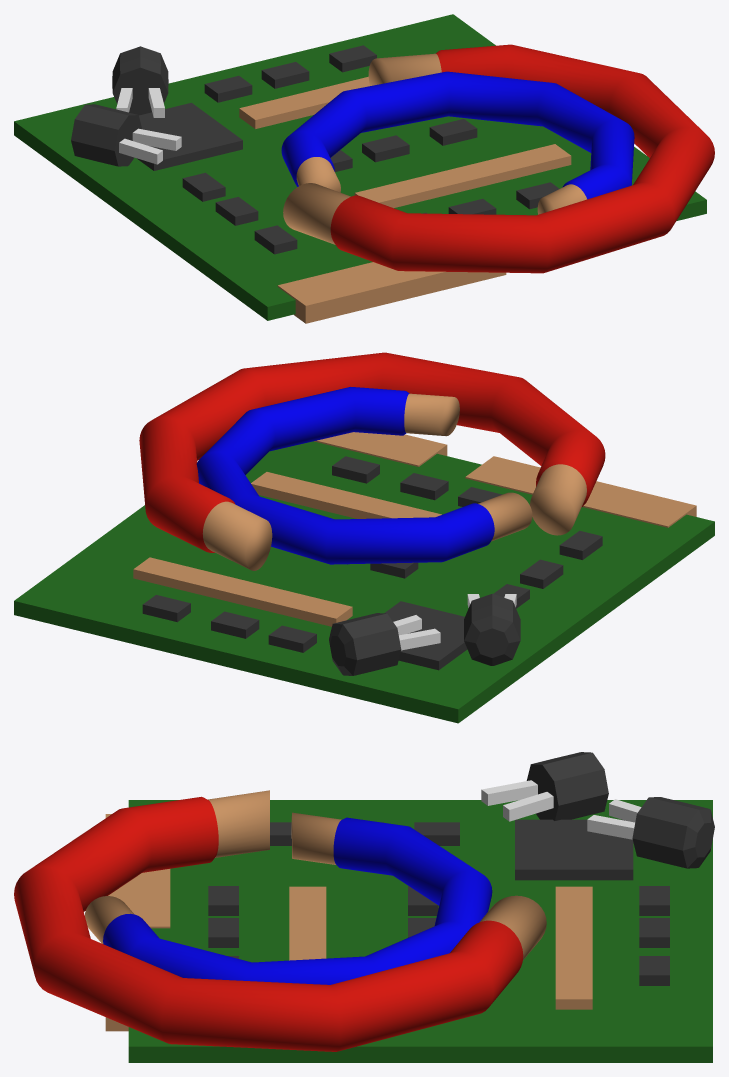
The model's file is Electronics.glb.
3 renders of one model, top to bottom at view 1: azimuth 30°, elevation 25°; view 2: azimuth 150°, elevation 25°; view 3: azimuth 270°, elevation 25°, orthographic. The views are drawn at different scales.
Visible parts, largest first — view 1: Motherboard, Wire, Wire.001, MetalStrip.001, MetalStrip.003, Processor, CapacitorTop.001, CapacitorTop, MetalStrip, Processor.006, Processor.011, Processor.010 (+9 smaller); view 2: Motherboard, Wire, Wire.001, MetalStrip, MetalStrip.001, MetalStrip.003, CapacitorTop, CapacitorTop.001, Processor, MetalStrip.002, Processor.008, Processor.012 (+6 smaller); view 3: Motherboard, Wire, Wire.001, Processor, CapacitorTop, MetalStrip, CapacitorTop.001, MetalStrip.003, MetalStrip.001, CapacitorEnd1.001, Processor.007, Processor.008 (+9 smaller).
Boxes of the visible parts, box(x1,y1,x2,y2) form: Motherboard: box(14, 14, 706, 320); Wire: box(283, 44, 714, 273); Wire.001: box(281, 71, 634, 214); MetalStrip.001: box(277, 262, 506, 323); MetalStrip.003: box(354, 144, 571, 208); Processor: box(137, 102, 242, 170); CapacitorTop.001: box(71, 104, 141, 166); CapacitorTop: box(112, 46, 168, 115); MetalStrip: box(239, 76, 369, 128); Processor.006: box(429, 119, 477, 145); Processor.011: box(261, 62, 309, 88); Processor.010: box(204, 75, 252, 102); Motherboard: box(14, 441, 714, 723); Wire: box(139, 352, 605, 570); Wire.001: box(196, 387, 532, 564); MetalStrip: box(133, 557, 352, 626); MetalStrip.001: box(465, 456, 696, 527); MetalStrip.003: box(251, 472, 441, 518); CapacitorTop: box(329, 613, 401, 675); CapacitorTop.001: box(464, 593, 520, 665); Processor: box(384, 601, 467, 670); MetalStrip.002: box(314, 432, 447, 466); Processor.008: box(400, 473, 448, 500); Processor.012: box(142, 595, 190, 622); Motherboard: box(128, 800, 712, 1062); Wire: box(14, 790, 546, 1051); Wire.001: box(85, 812, 492, 984); Processor: box(515, 819, 633, 880); CapacitorTop: box(632, 797, 714, 868); MetalStrip: box(555, 886, 592, 1009); CapacitorTop.001: box(526, 752, 608, 820); MetalStrip.003: box(289, 886, 326, 960); MetalStrip.001: box(105, 814, 170, 928); CapacitorEnd1.001: box(481, 780, 537, 805); Processor.007: box(208, 886, 238, 915); Processor.008: box(208, 918, 238, 947).
Bounding box in the file's own units: 9.57 × 1.41 × 10.53.
